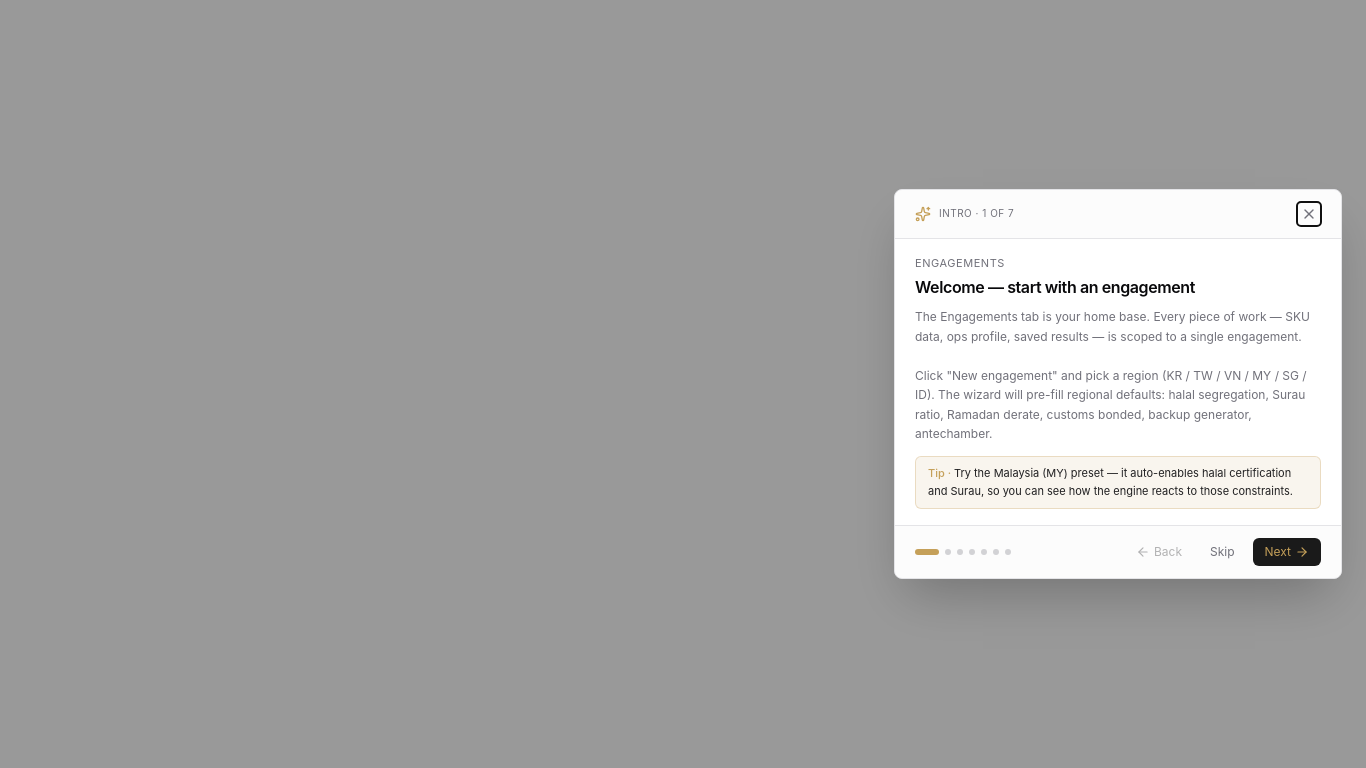
Phase 10.4 — IntroTour modal › Next advances through steps and the last step shows "Got it"
Click the button "Next" at (1287, 552), box [1252,538,1321,566]
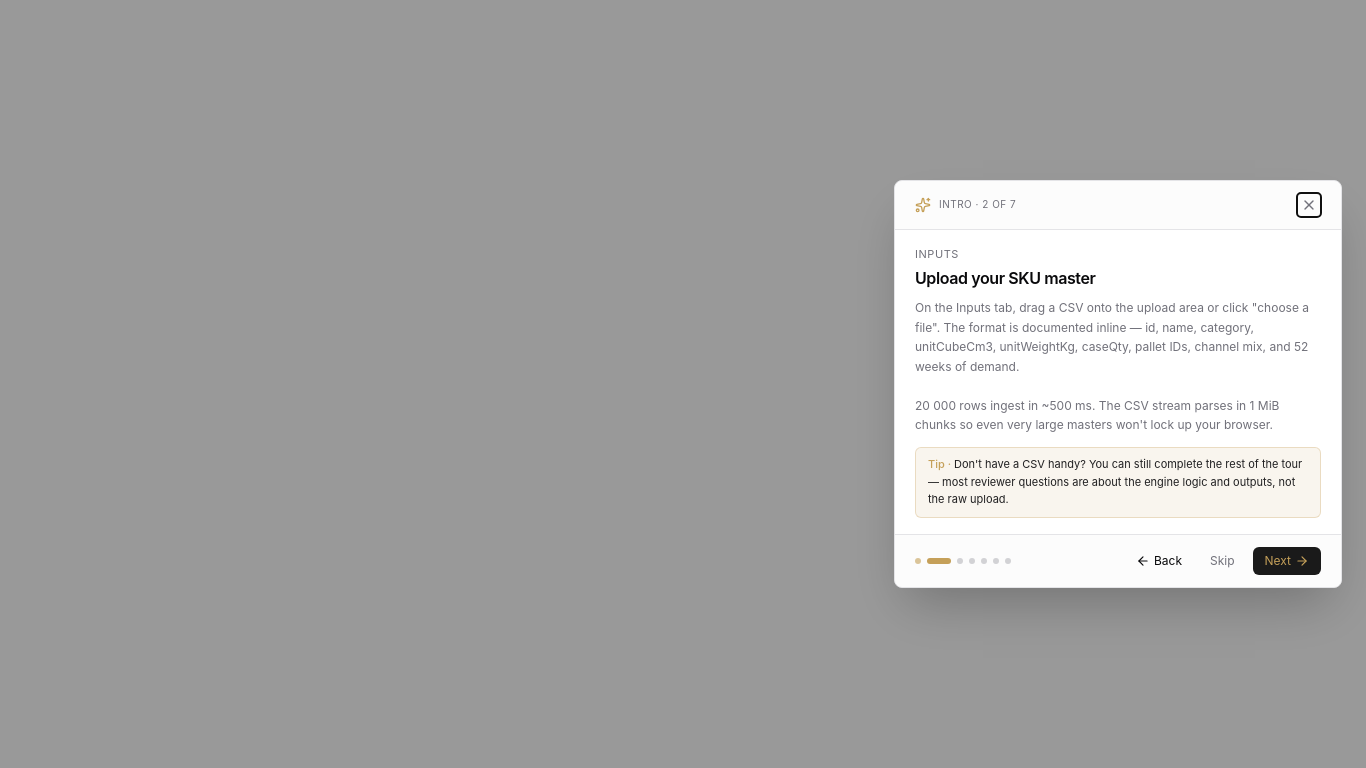
Click the button "Next" at (1287, 561), box [1252,547,1321,575]
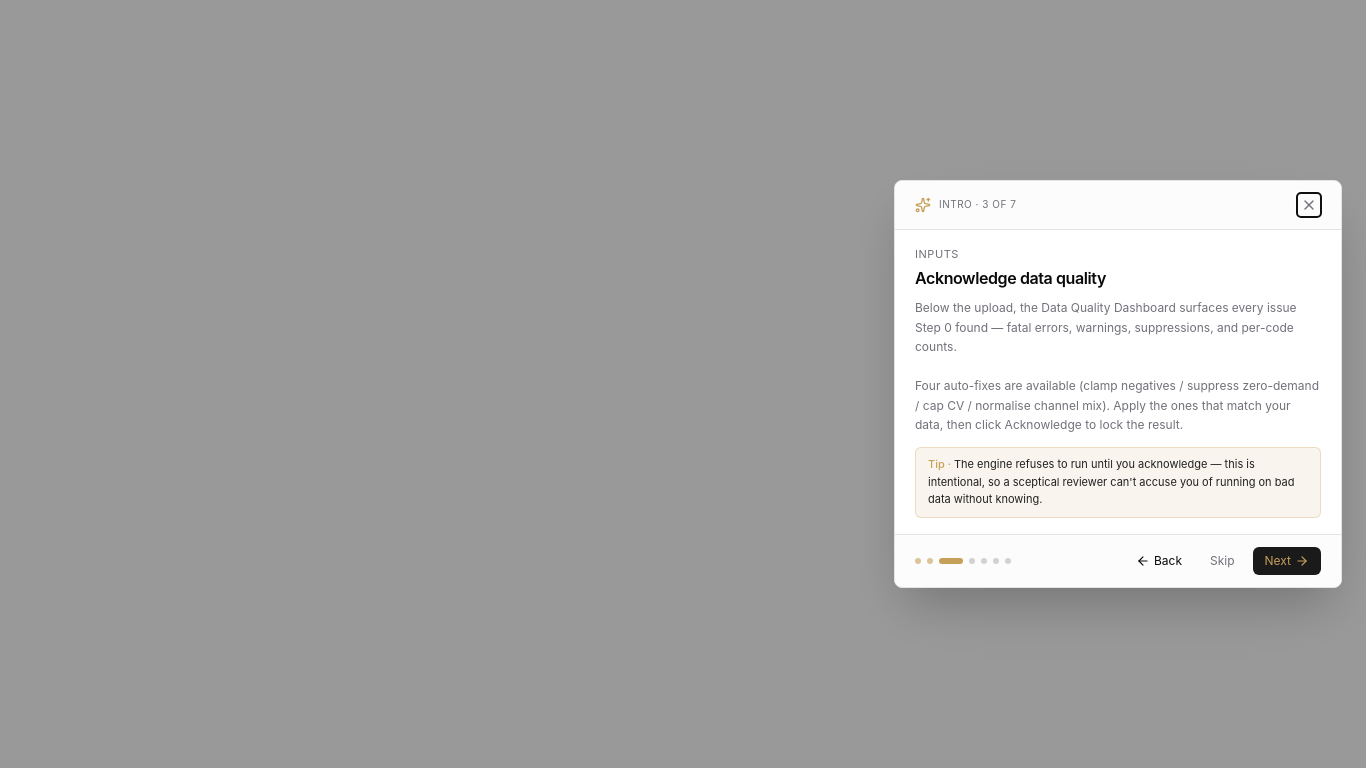
Click the button "Next" at (1287, 561), box [1252,547,1321,575]
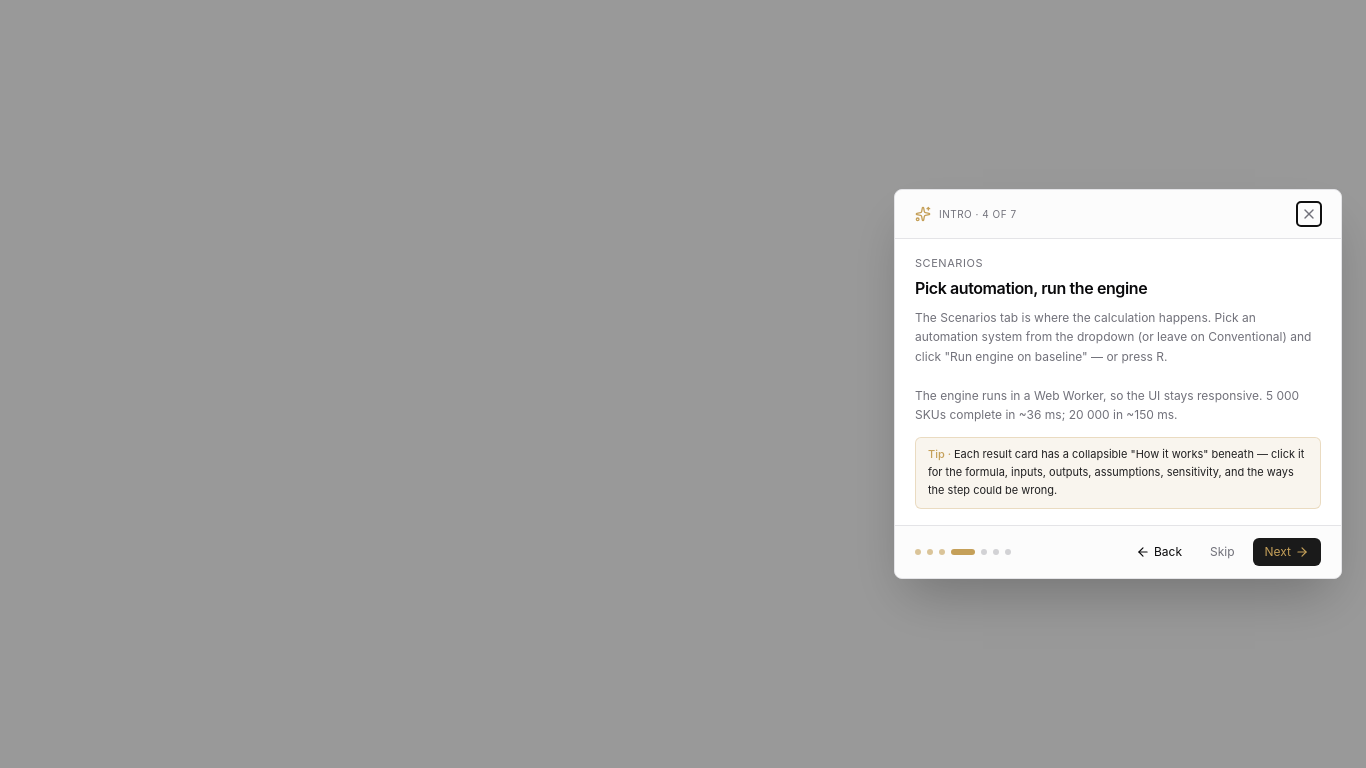
Click the button "Next" at (1287, 552), box [1252,538,1321,566]
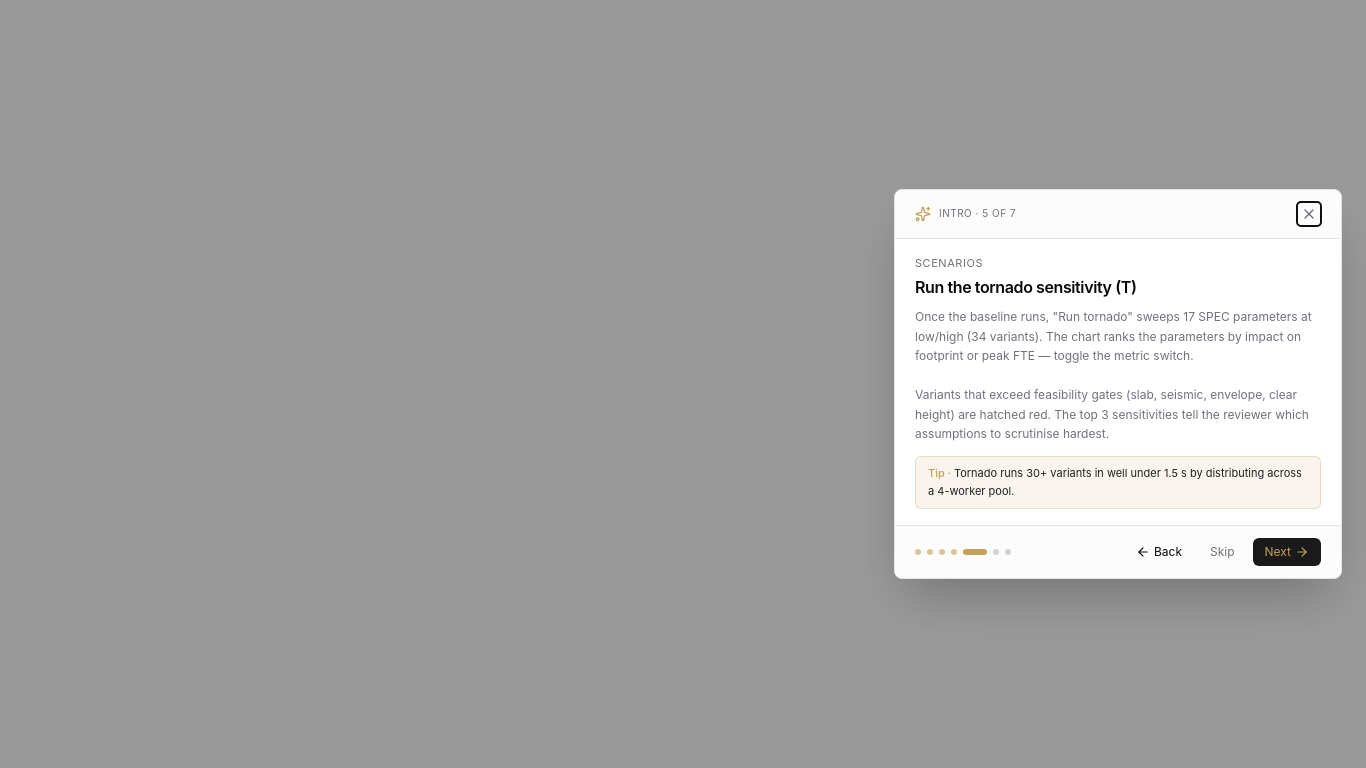
Click the button "Next" at (1287, 552), box [1252,538,1321,566]
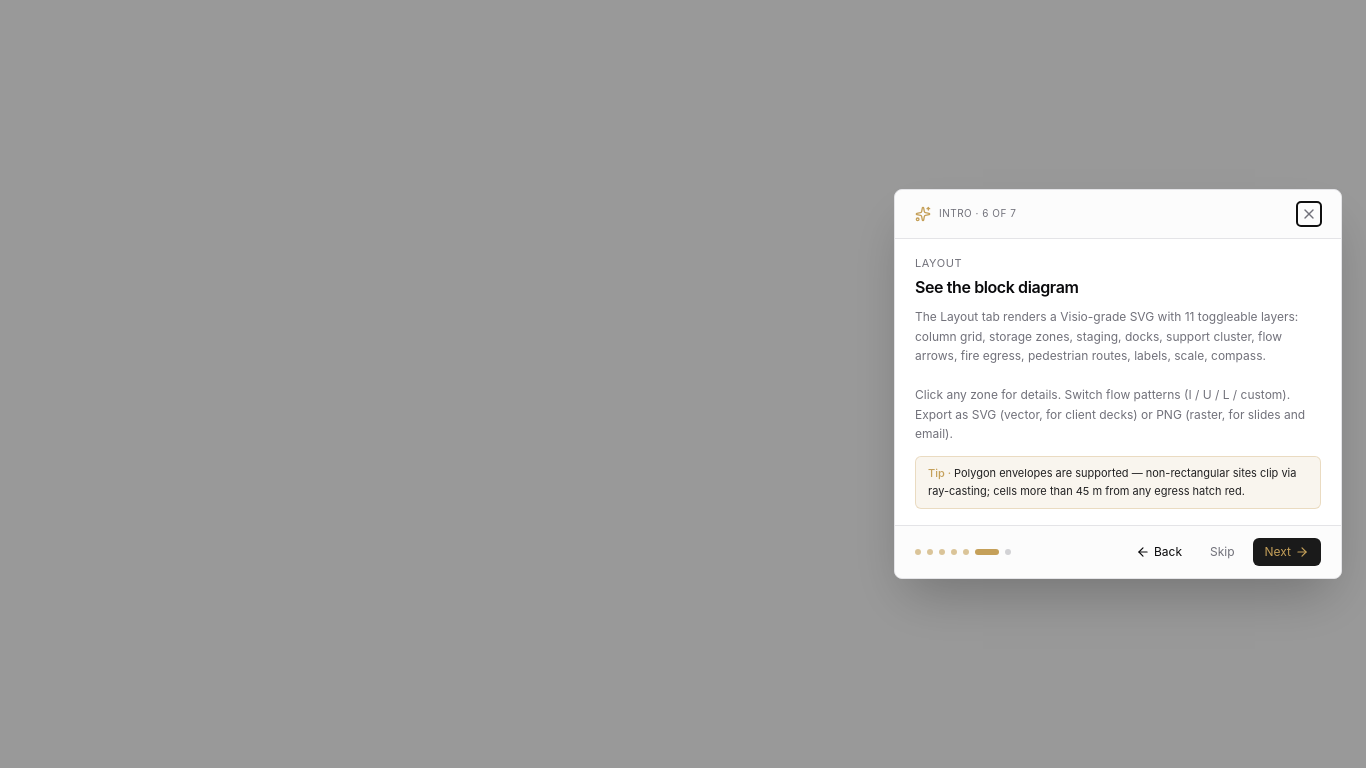
Click the button "Next" at (1287, 552), box [1252,538,1321,566]
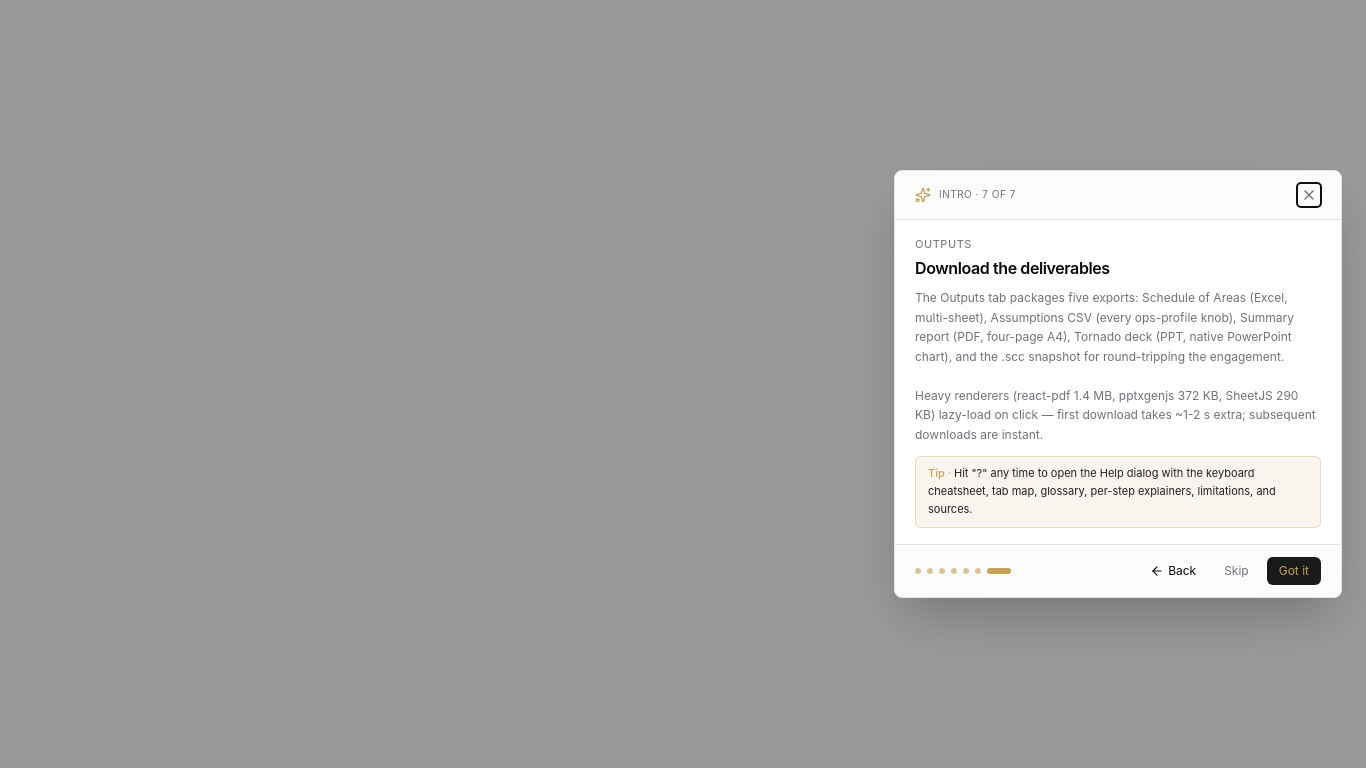
Result: the heading "Download the deliverables" is shown at [915,258,1110,278]
Result: the button "Got it" is shown at [1267,557,1321,585]
